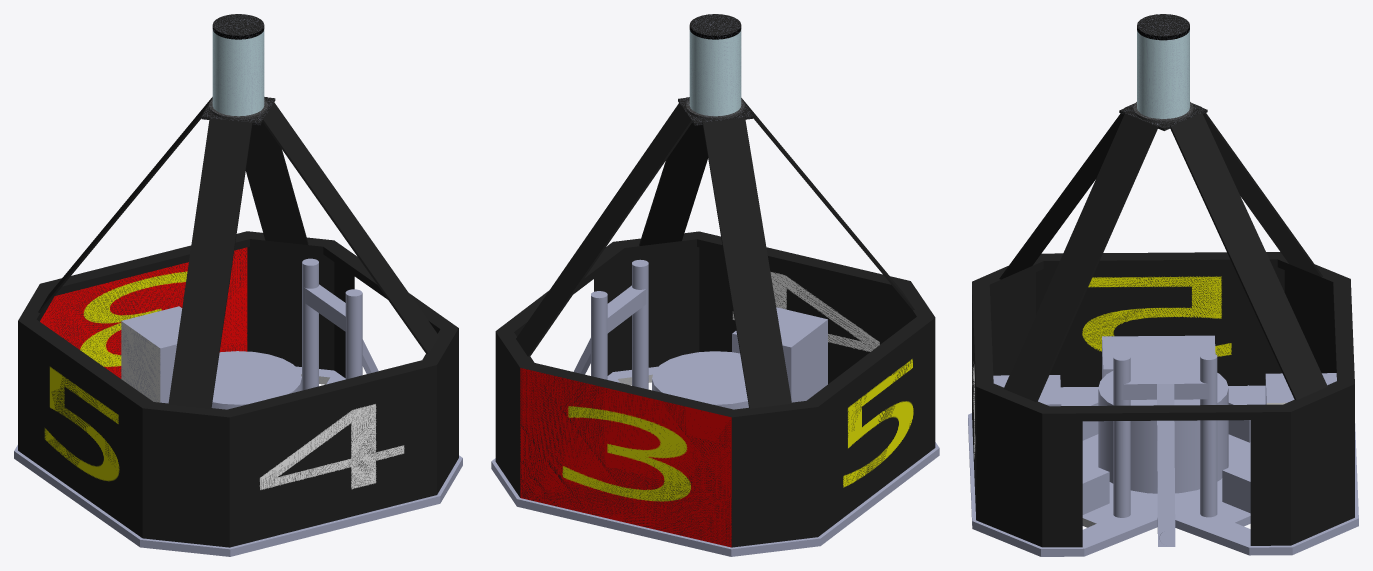
Rendered from nubot_frame5.dae.
The picture shows the model from 3 angles, left to right: view 1: azimuth 30°, elevation 25°; view 2: azimuth 150°, elevation 25°; view 3: azimuth 270°, elevation 25°; orthographic projection. The views are drawn at different scales.
Visible parts, largest first — view 1: SketchUp (×9), 支撑2, 支撑3, 摄像头 (×2), 支撑4, 射门, 支撑; view 2: SketchUp (×9), 支撑, 支撑4, 摄像头 (×2), 支撑3, 射门, 支撑2; view 3: SketchUp (×16), 支撑3, 支撑4, 射门 (×2), 摄像头 (×2), 支撑2, 支撑.
Part boxes in pixels (bbox=[...]): SketchUp (×9): bbox=[14, 231, 462, 556]; 支撑2: bbox=[168, 118, 252, 408]; 支撑3: bbox=[262, 102, 438, 353]; 摄像头 (×2): bbox=[212, 14, 264, 116]; 支撑4: bbox=[245, 122, 308, 244]; 射门: bbox=[302, 258, 362, 390]; 支撑: bbox=[38, 97, 212, 312]; SketchUp (×9): bbox=[491, 231, 939, 556]; 支撑: bbox=[702, 117, 791, 408]; 支撑4: bbox=[516, 102, 692, 356]; 摄像头 (×2): bbox=[689, 14, 741, 116]; 支撑3: bbox=[639, 122, 707, 245]; 射门: bbox=[591, 259, 648, 389]; 支撑2: bbox=[741, 98, 914, 309]; SketchUp (×16): bbox=[968, 252, 1358, 556]; 支撑3: bbox=[1003, 113, 1157, 401]; 支撑4: bbox=[1170, 113, 1327, 400]; 射门 (×2): bbox=[1113, 352, 1217, 546]; 摄像头 (×2): bbox=[1137, 14, 1189, 118]; 支撑2: bbox=[999, 113, 1123, 279]; 支撑: bbox=[1192, 103, 1322, 277].
Bounding box in the file's own units: 18.18 × 17.73 × 22.48.
